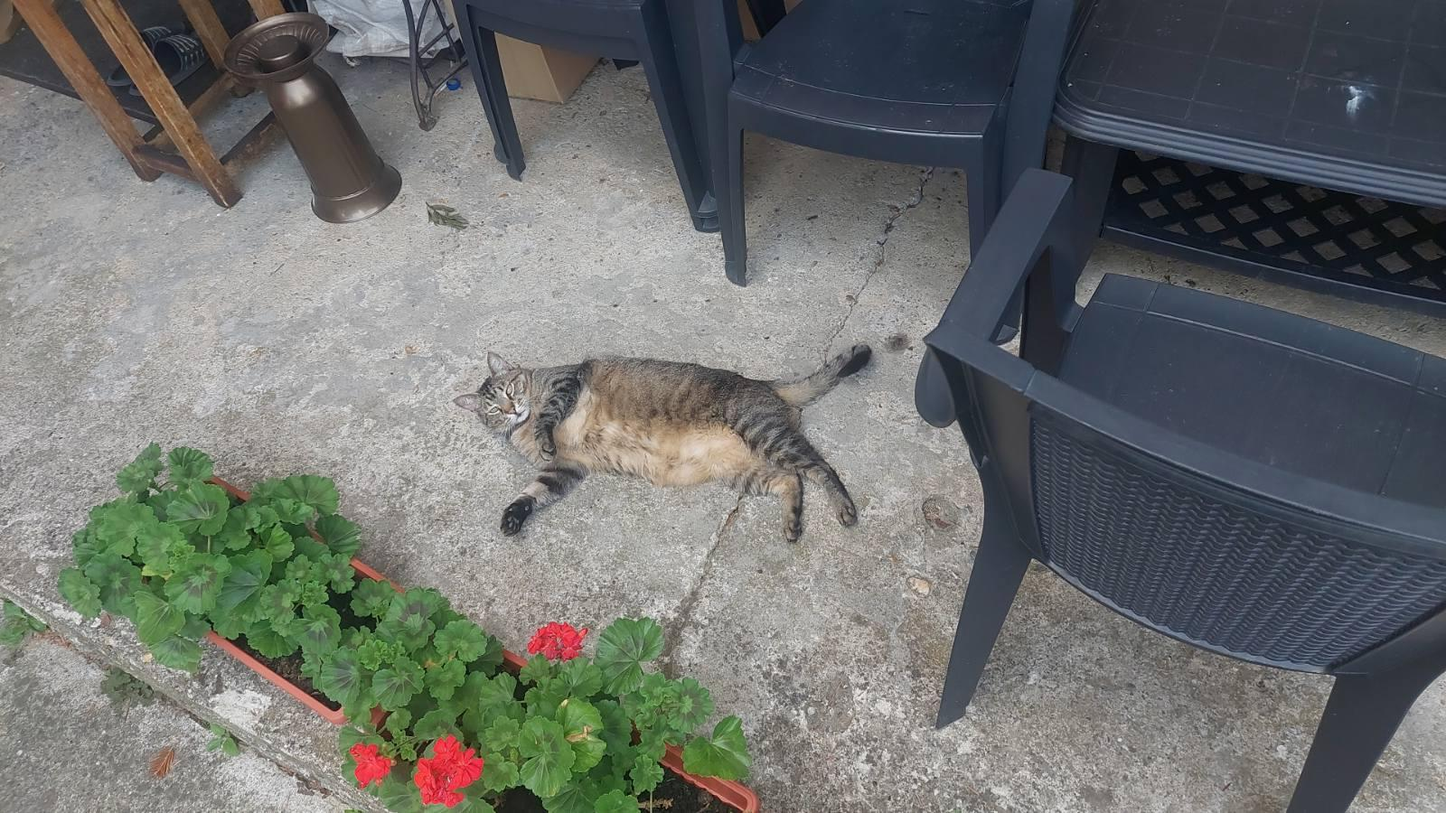macka: (451, 341, 873, 542)
